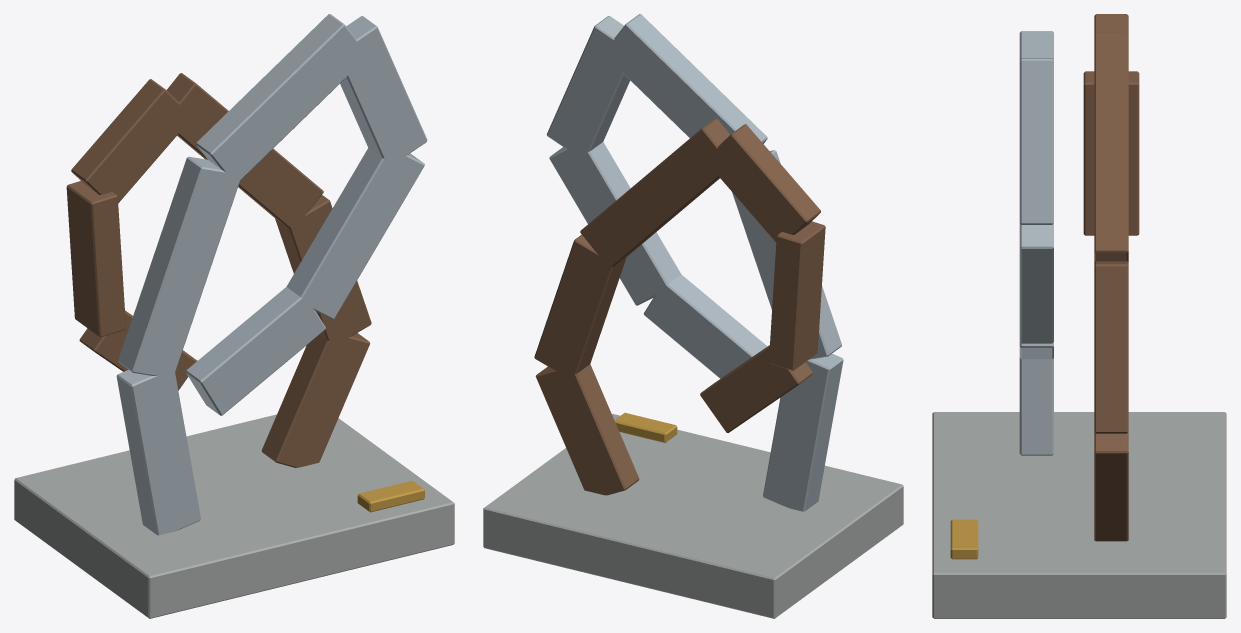
File: b18_interlocking_steel_ribbon_sculpture.glb
The picture shows the model from 3 angles, left to right: view 1: azimuth 30°, elevation 25°; view 2: azimuth 150°, elevation 25°; view 3: azimuth 270°, elevation 25°; orthographic projection. The views are drawn at different scales.
Visible parts, largest first — view 1: b18_interlocking_steel_ribbon_sculpture; view 2: b18_interlocking_steel_ribbon_sculpture; view 3: b18_interlocking_steel_ribbon_sculpture.
Part boxes in pixels (x1,y1,x2,y2): b18_interlocking_steel_ribbon_sculpture: [14, 14, 454, 618]; b18_interlocking_steel_ribbon_sculpture: [483, 14, 903, 618]; b18_interlocking_steel_ribbon_sculpture: [932, 14, 1226, 618].
Size of the model in its own units: 1.88 by 2.85 by 1.38.
